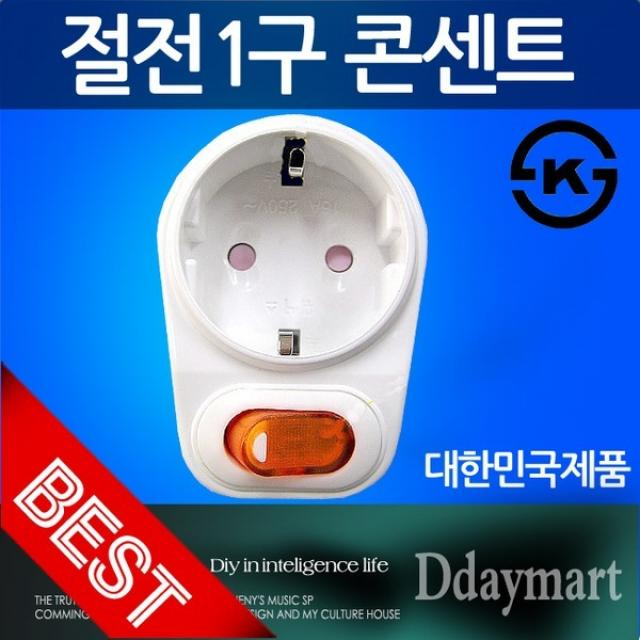typeb: (113, 104, 452, 519)
